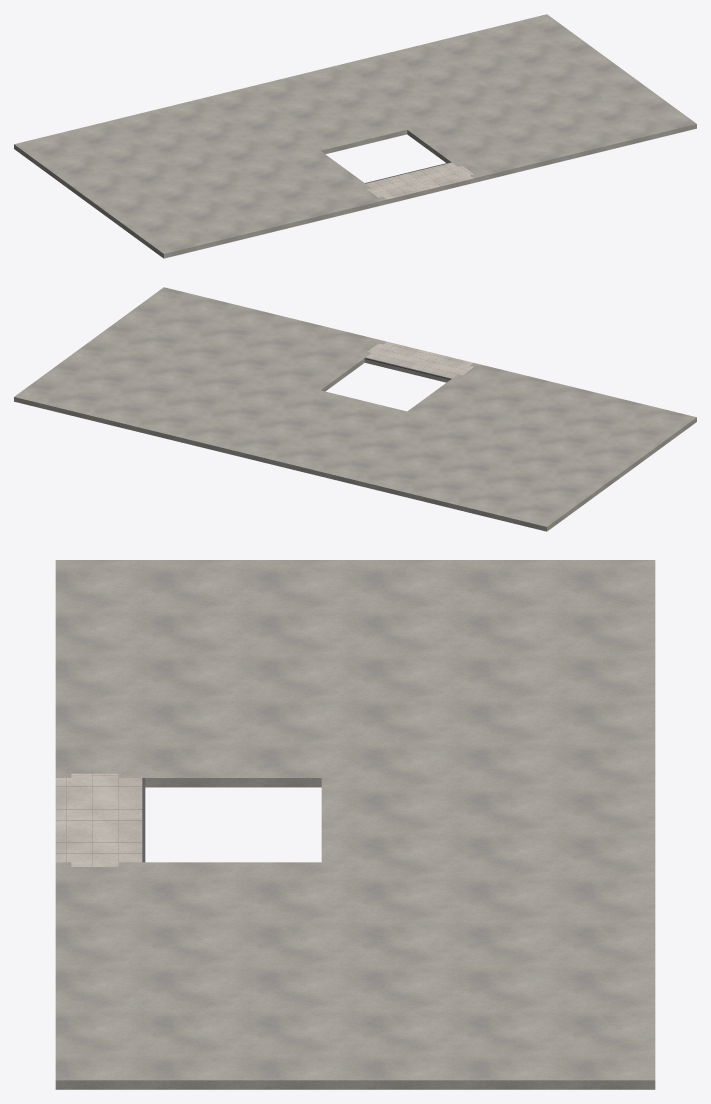
File: slab_r.glb
The picture shows the model from 3 angles, top to bottom: view 1: azimuth 30°, elevation 25°; view 2: azimuth 150°, elevation 25°; view 3: azimuth 270°, elevation 25°; orthographic projection. The views are drawn at different scales.
Parts seen in each view (by area): view 1: slab_r_conc_s, slab_r_terrazzo, slab_r_ceil; view 2: slab_r_conc_s, slab_r_terrazzo, slab_r_ceil; view 3: slab_r_conc_s, slab_r_terrazzo.
Part boxes in pixels (left/top/right/bottom): slab_r_conc_s: left=14, top=14, right=696, bottom=258; slab_r_terrazzo: left=366, top=162, right=473, bottom=199; slab_r_ceil: left=14, top=128, right=696, bottom=258; slab_r_conc_s: left=14, top=287, right=696, bottom=531; slab_r_terrazzo: left=365, top=341, right=473, bottom=378; slab_r_ceil: left=14, top=362, right=696, bottom=531; slab_r_conc_s: left=55, top=560, right=655, bottom=1089; slab_r_terrazzo: left=55, top=773, right=142, bottom=866.
Size of the model in its own units: 23.4 by 0.293 by 11.4.
8 materials, 4 textured.
